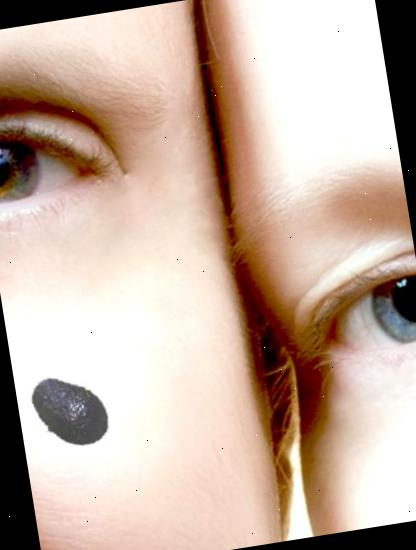Avocado: (20, 364, 118, 460)
